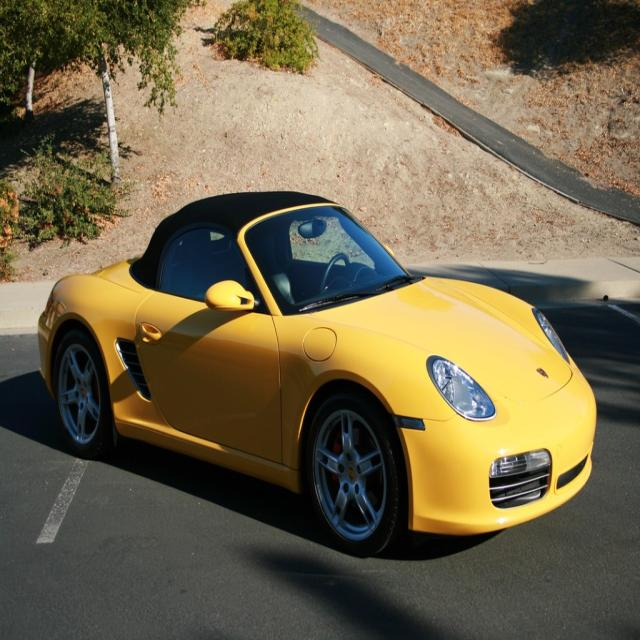car: (35, 188, 597, 553)
